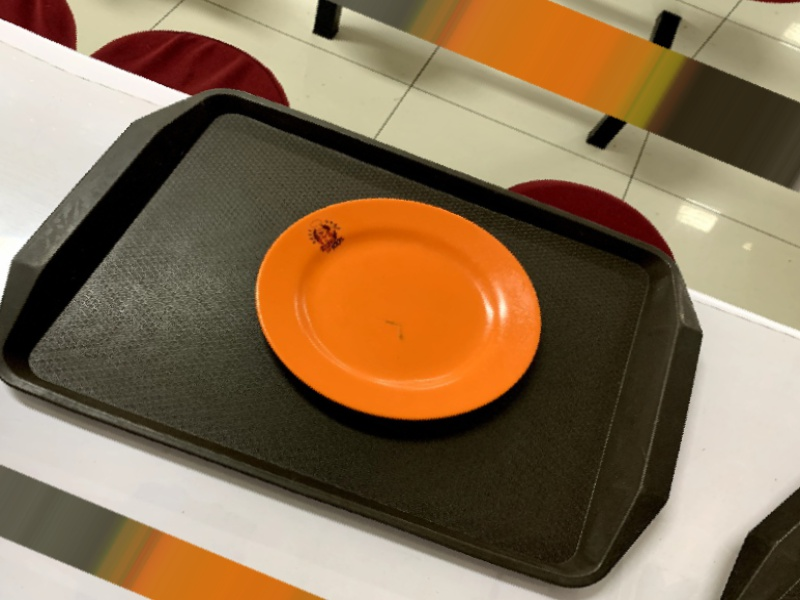dish10: (201, 153, 596, 468)
